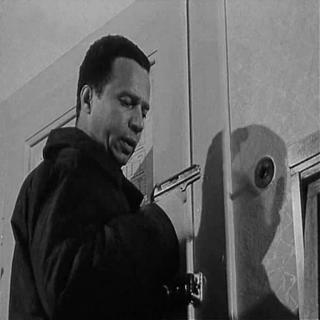gun: (148, 160, 202, 245)
